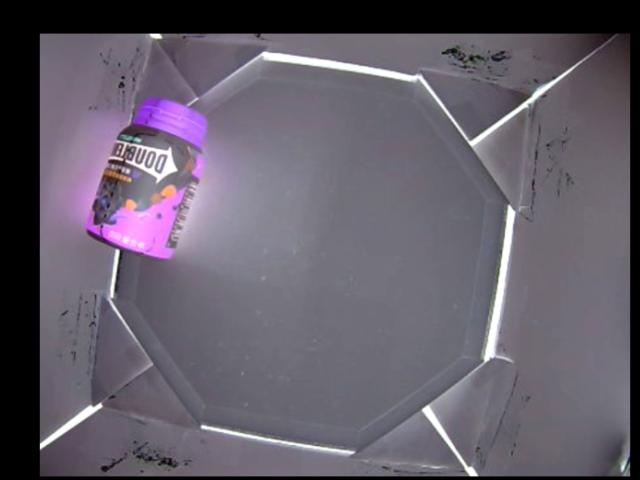Bottle: (82, 92, 209, 260)
